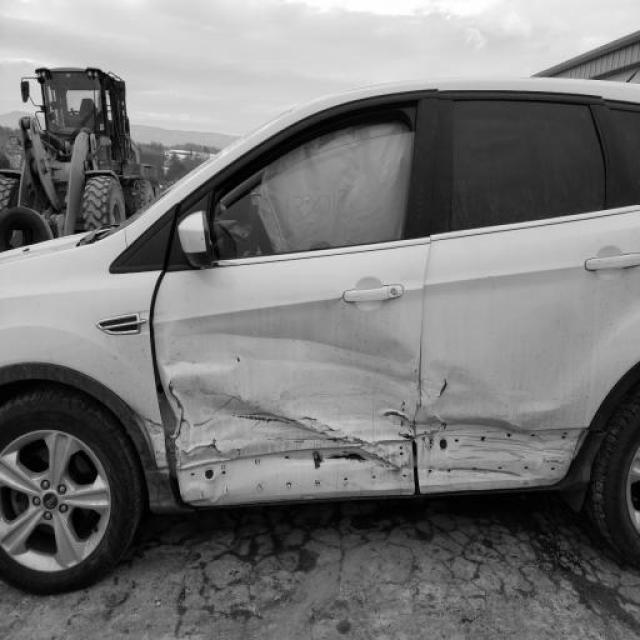crush: (131, 320, 597, 514)
